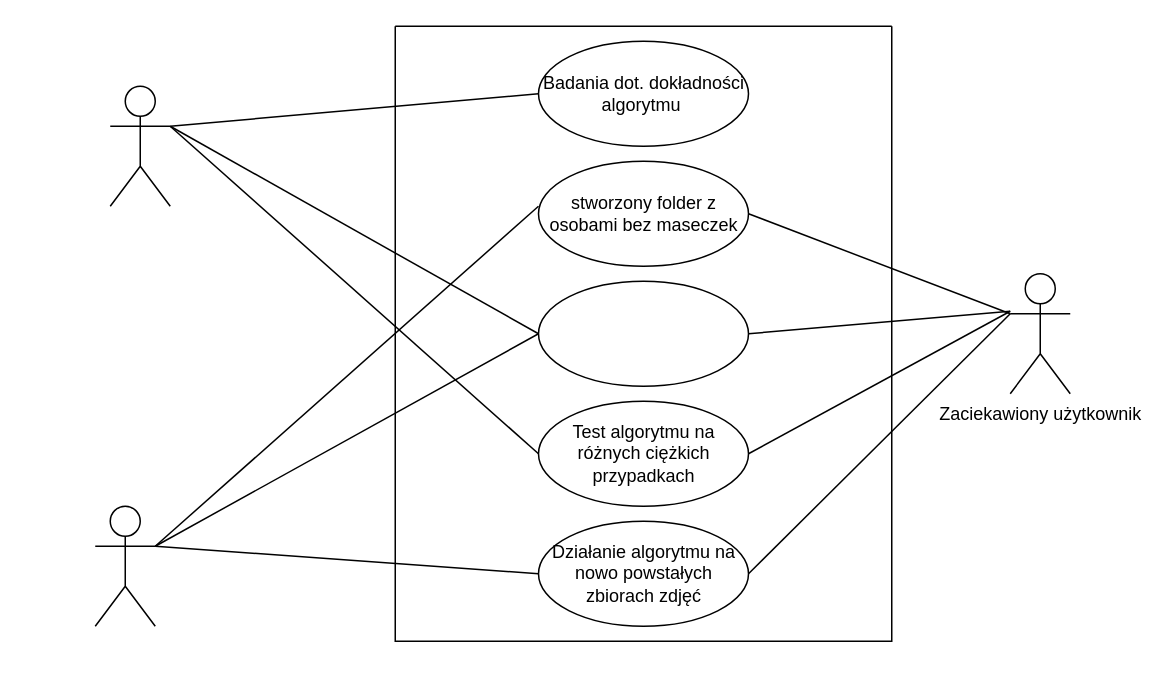
This 1167x684 diagram has some shape labels left out. Here are the shapes that lost their labels. From the top down, the box of each, then its label:
(109, 85, 170, 206): Programista YOLO5
(537, 280, 748, 386): Zaznaczenie maseczek na zdjęciach wraz z dokładnością
(94, 505, 155, 626): Ochroniarz w przychodni
